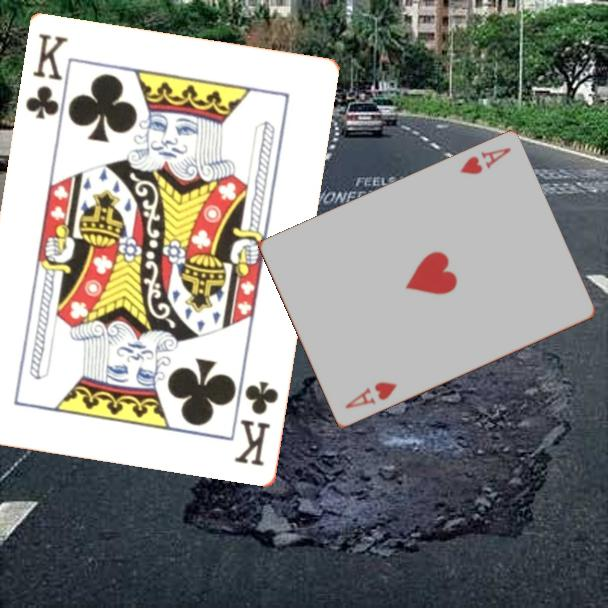c13: (231, 378, 282, 470), (22, 30, 72, 123)
h01: (456, 144, 514, 178), (341, 379, 400, 412)
